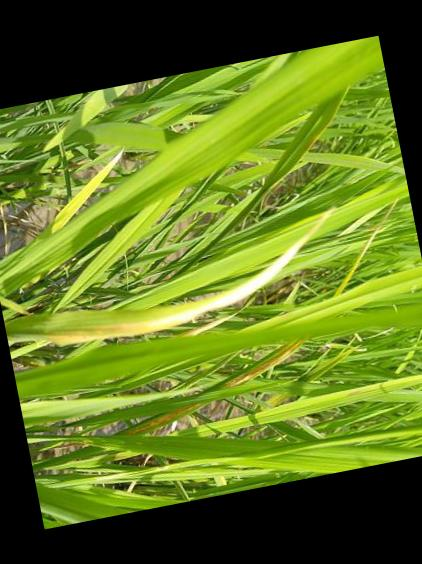Leaf Blight: (4, 217, 320, 344), (220, 341, 302, 387), (120, 401, 212, 435)
